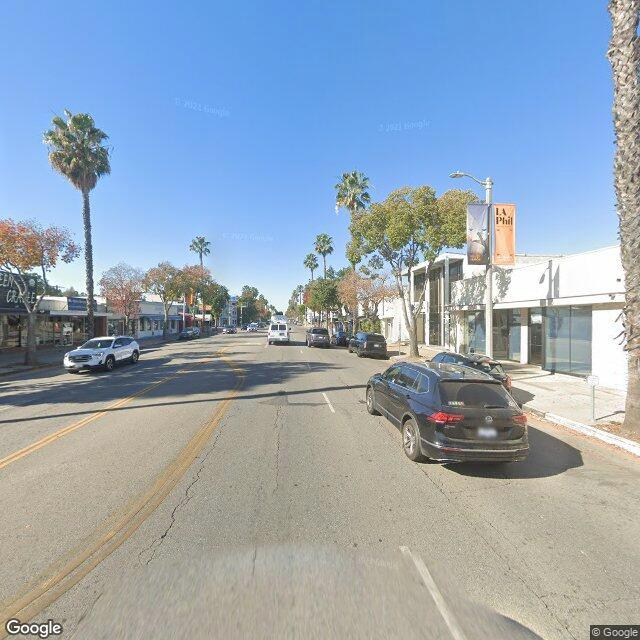crack: (469, 515, 593, 639), (134, 419, 231, 563), (264, 380, 289, 493)
